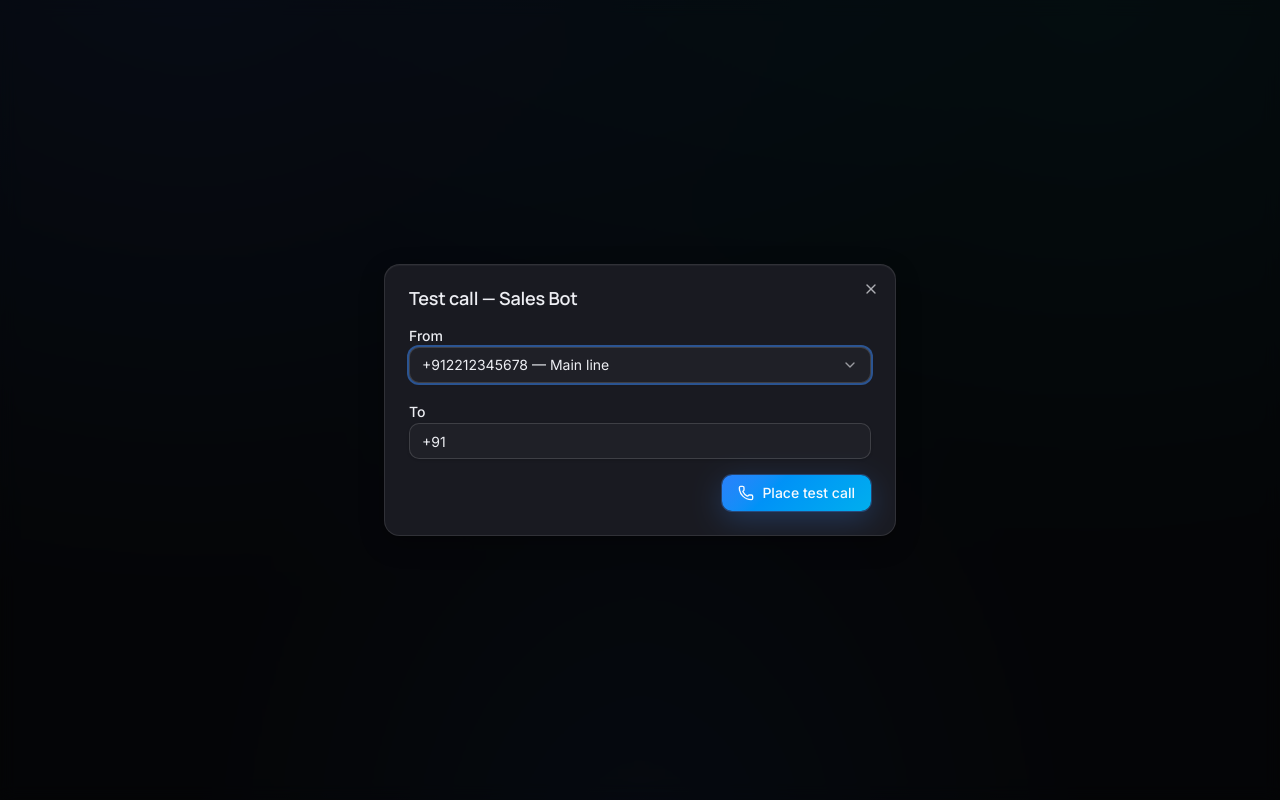
Scenario: TestCallDialog › shows a fallback message for an error with no backend detail
Click the button "Place test call" at (797, 493), box [722, 475, 871, 511]
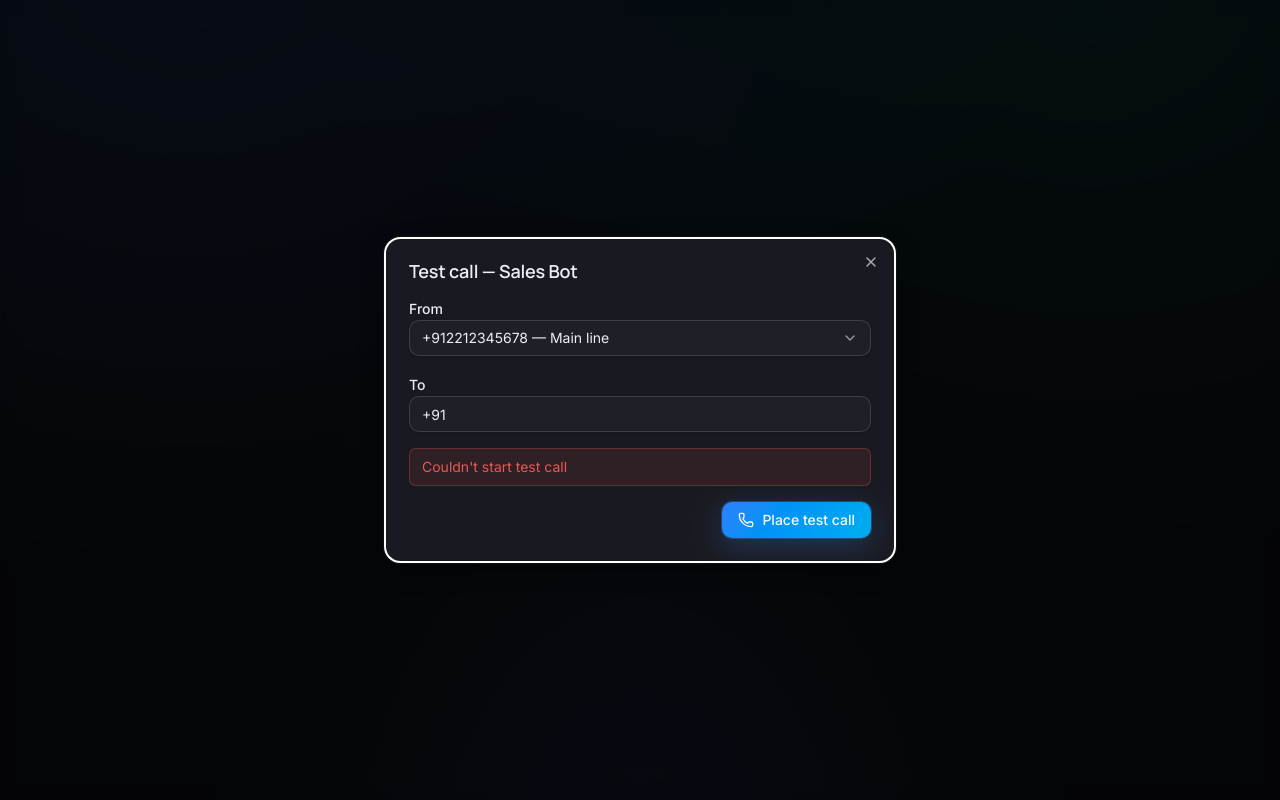
expect the text "Couldn't start test call" is shown: met, box [409, 448, 871, 486]
